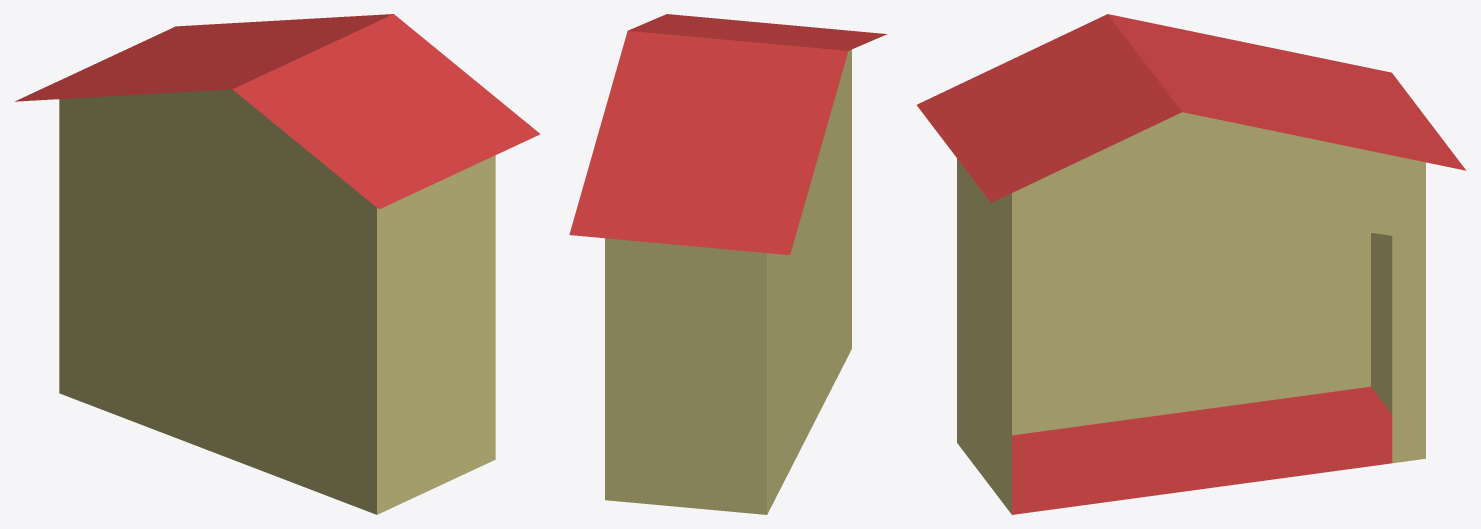
The picture shows the model from 3 angles, left to right: view 1: azimuth 30°, elevation 25°; view 2: azimuth 150°, elevation 25°; view 3: azimuth 270°, elevation 25°; orthographic projection. The views are drawn at different scales.
Size of the model in its own units: 8.93 by 12.75 by 10.08.
